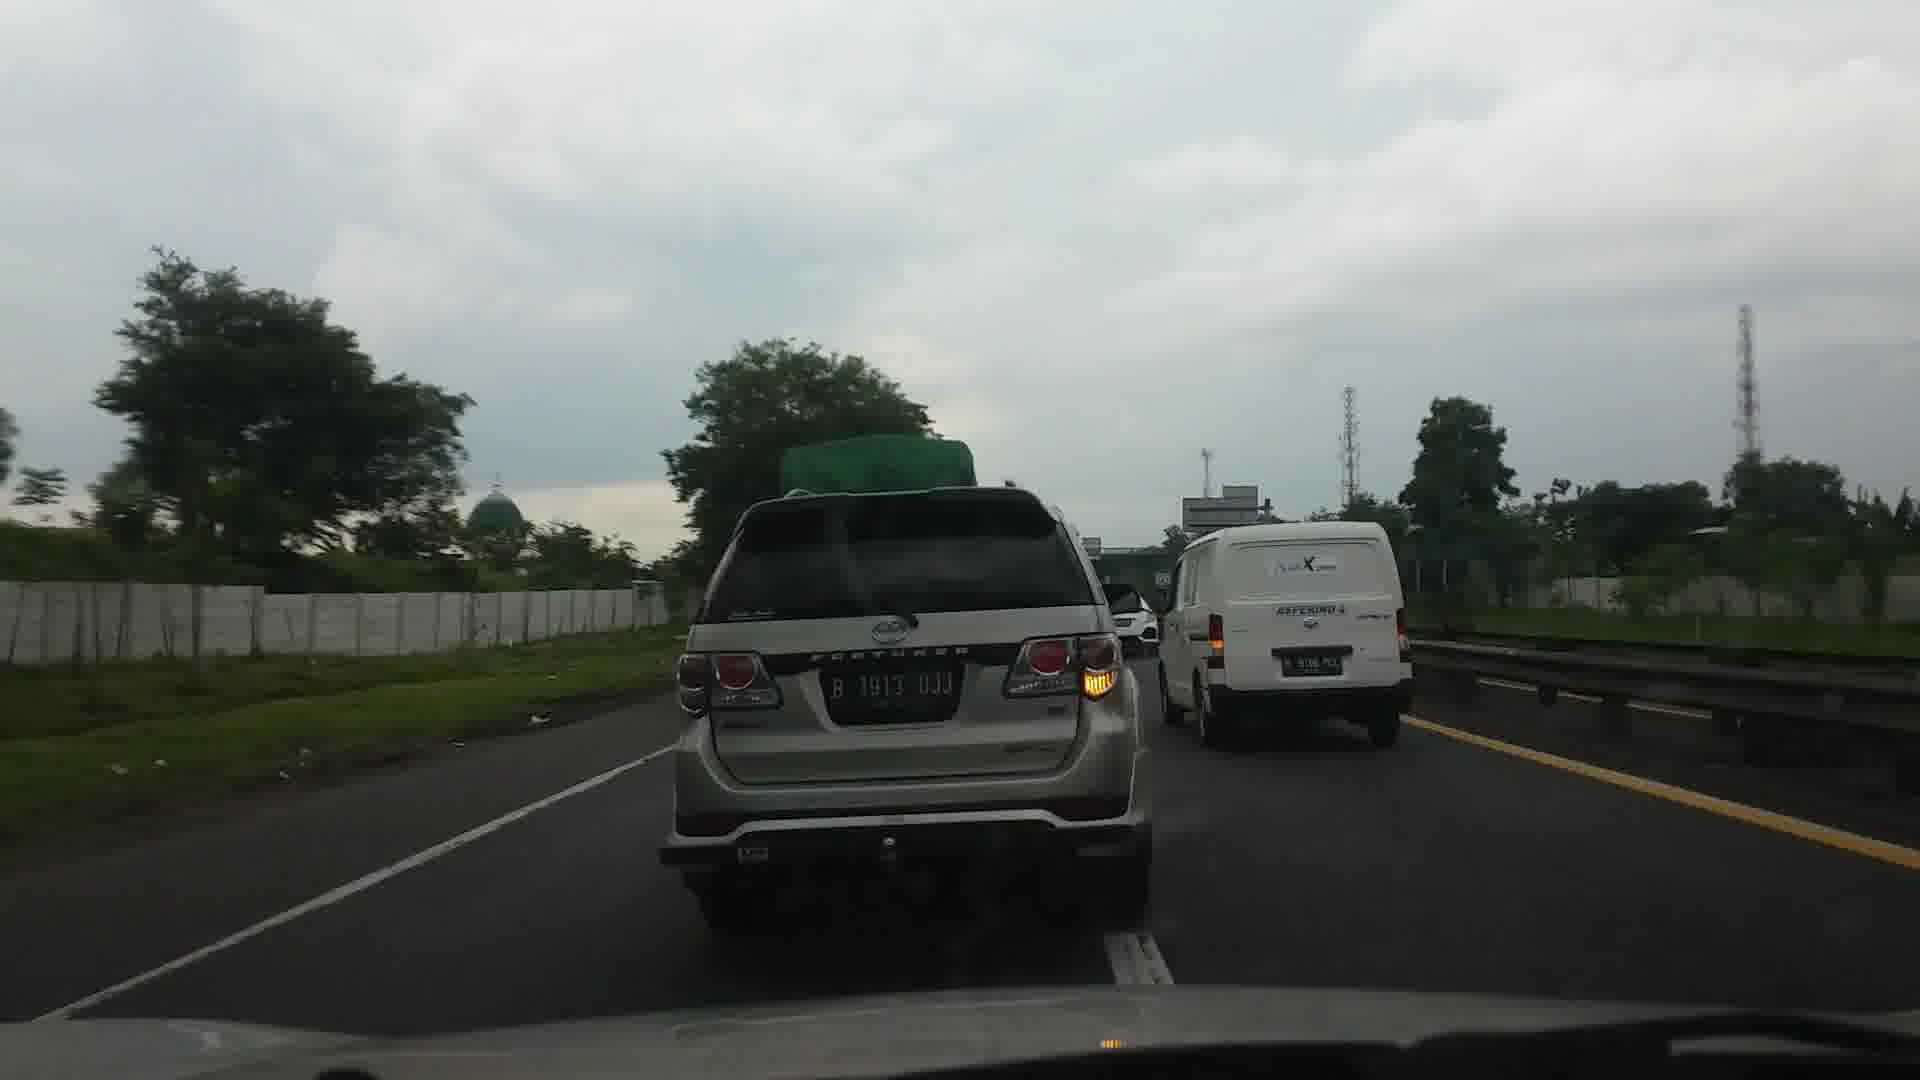plate_positive: (825, 669, 959, 708)
